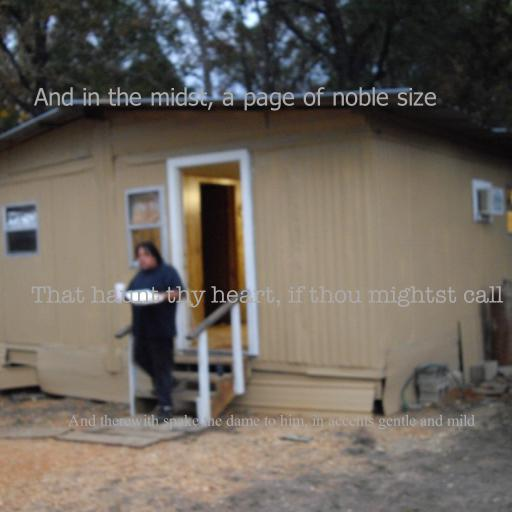American Typewriter: (31, 285, 503, 308)
Tahoma: (33, 87, 437, 111)
Times New Roman: (67, 414, 475, 430)
